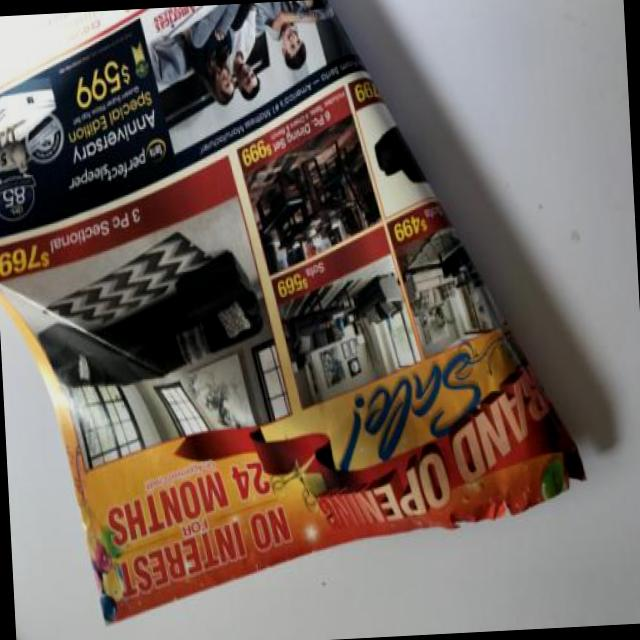paper: (0, 1, 537, 576)
